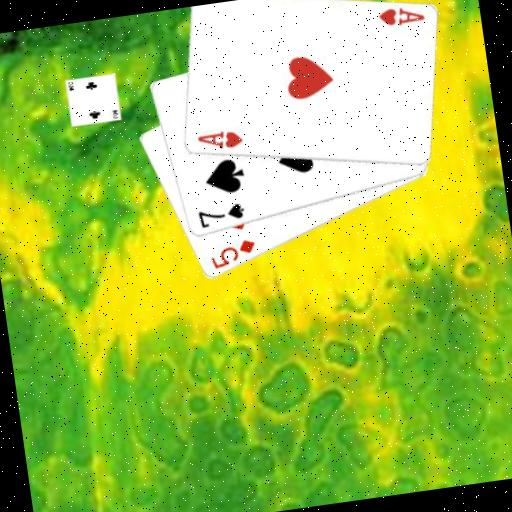5D: (206, 236, 260, 273)
7S: (194, 200, 247, 232)
AH: (374, 1, 427, 31), (193, 125, 245, 155)
